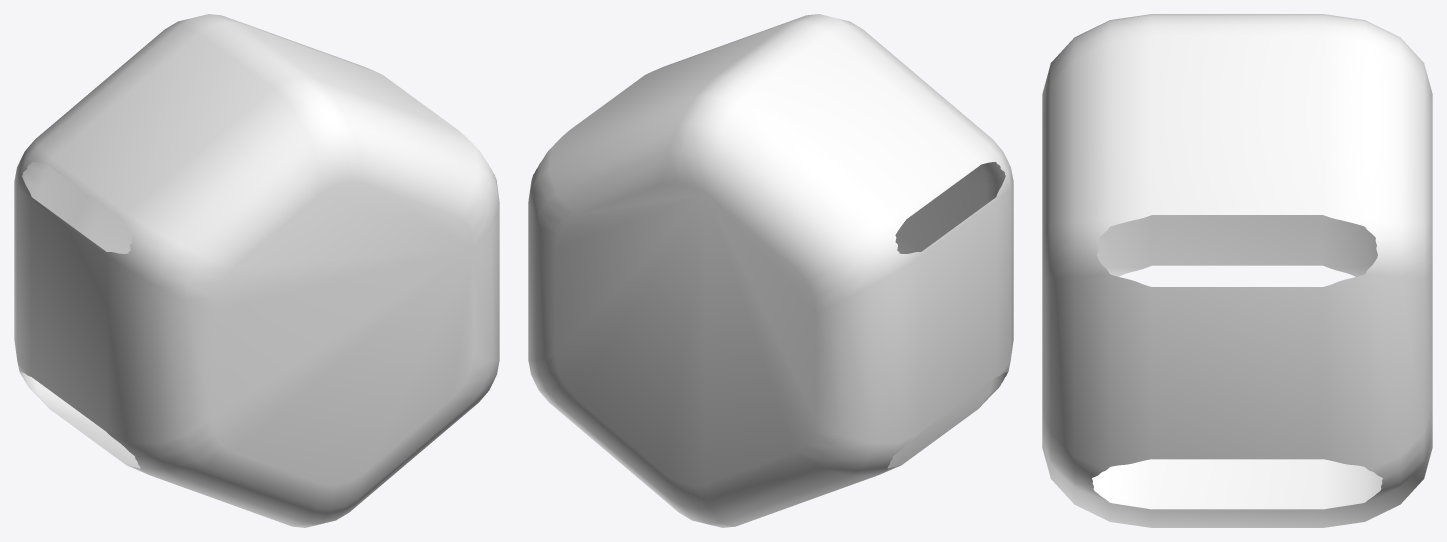
Rendered from HoneyBlock.fbx.
The picture shows the model from 3 angles, left to right: view 1: azimuth 30°, elevation 25°; view 2: azimuth 150°, elevation 25°; view 3: azimuth 270°, elevation 25°; orthographic projection. The views are drawn at different scales.
Visible parts, largest first — view 1: Cylinder.035; view 2: Cylinder.035; view 3: Cylinder.035.
Boxes of the visible parts, box(x1,y1,x2,y2) form: Cylinder.035: box(14, 14, 499, 527); Cylinder.035: box(528, 14, 1013, 527); Cylinder.035: box(1042, 14, 1432, 527).
Bounding box in the file's own units: 89.69 × 99.98 × 70.47.
